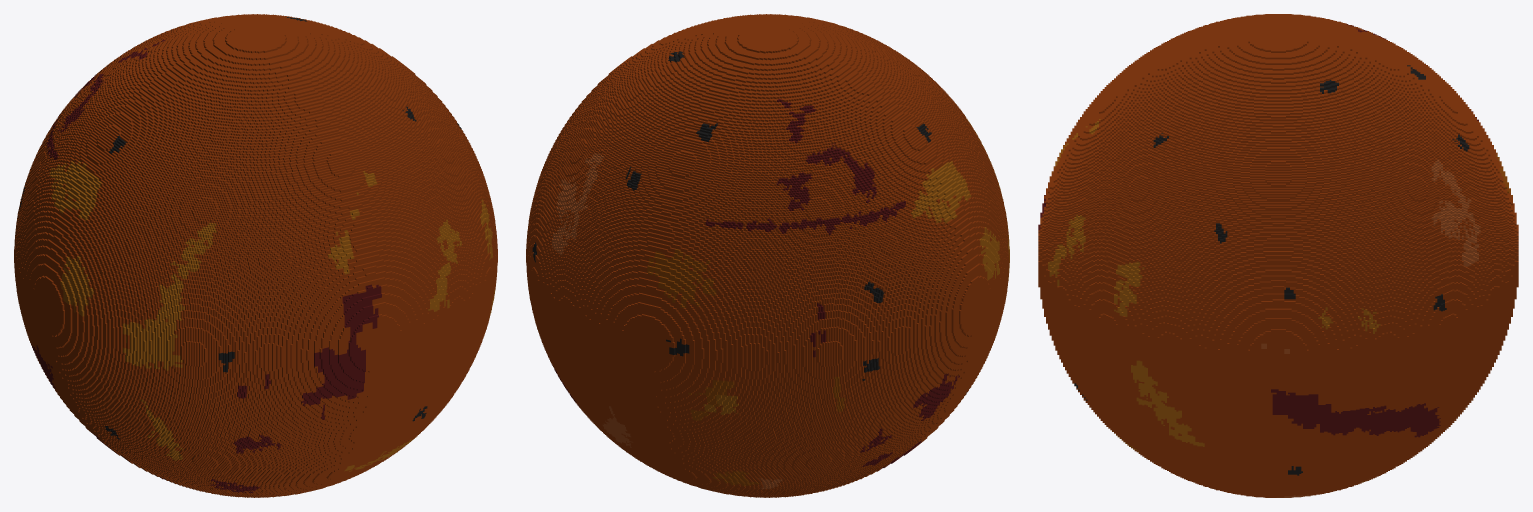
Rendered from Mars.obj.
3 renders of one model, left to right at view 1: azimuth 30°, elevation 25°; view 2: azimuth 150°, elevation 25°; view 3: azimuth 270°, elevation 25°, orthographic.
Size of the model in its own units: 25.4 by 25.4 by 25.4.
1 material, 1 textured.
